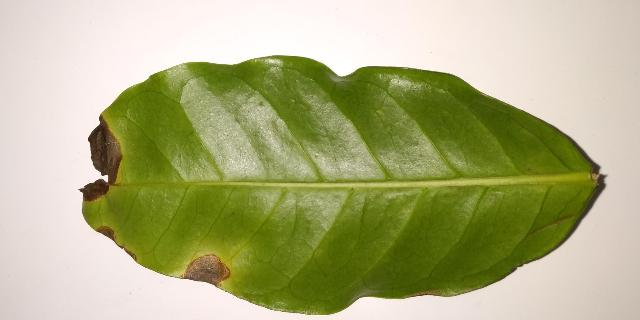rust: (80, 116, 121, 201), (181, 254, 231, 288), (118, 246, 136, 260), (97, 227, 115, 241)
